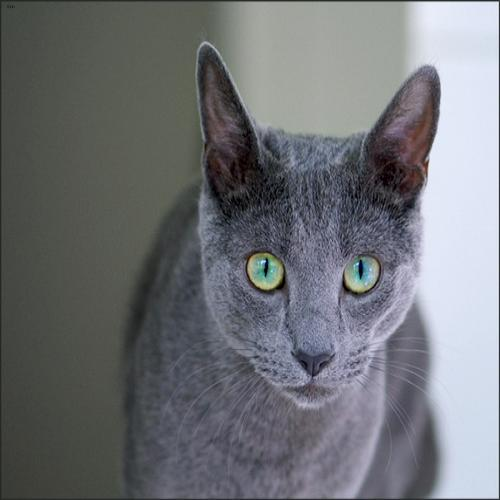rblue: (182, 25, 453, 422)
